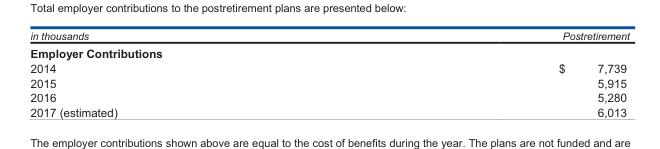table: (29, 29, 628, 118)
table column: (29, 29, 337, 118), (337, 29, 628, 118)
table column header: (29, 29, 628, 43)
table projected row header: (29, 43, 628, 60)
table row: (29, 43, 628, 60), (29, 60, 628, 75), (29, 75, 628, 90), (29, 29, 628, 43), (29, 90, 628, 104), (29, 104, 628, 118)
